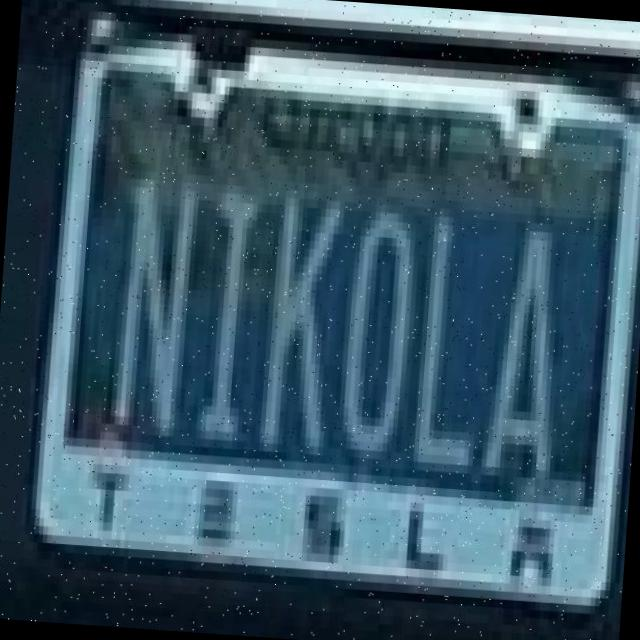LicensePlate: (27, 38, 640, 611)
